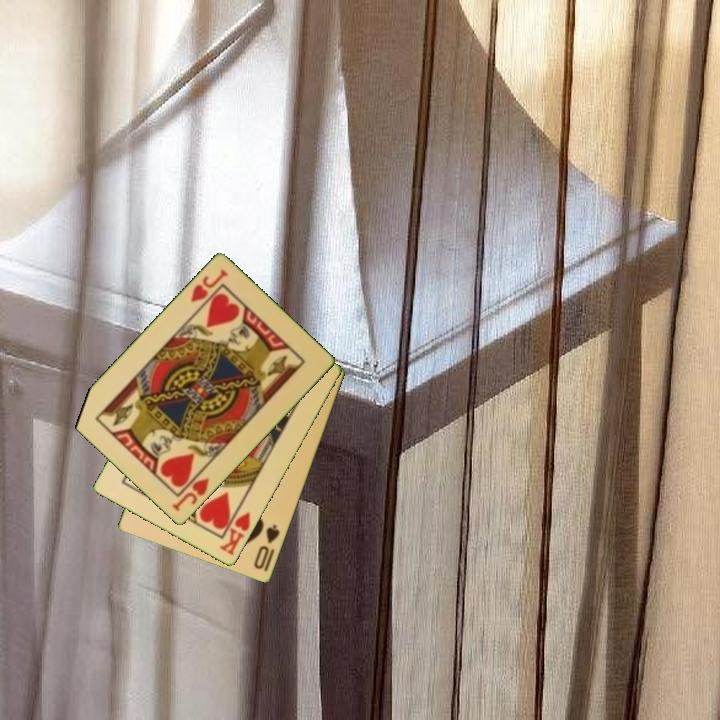10s: (250, 521, 283, 573)
Jh: (168, 465, 212, 514), (187, 266, 231, 306)
Kh: (216, 502, 253, 559)
